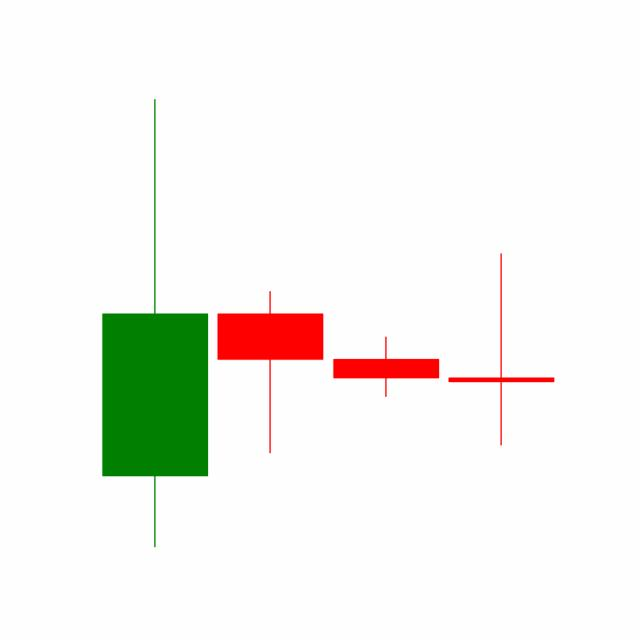Spinning Top: (328, 335, 444, 398)
